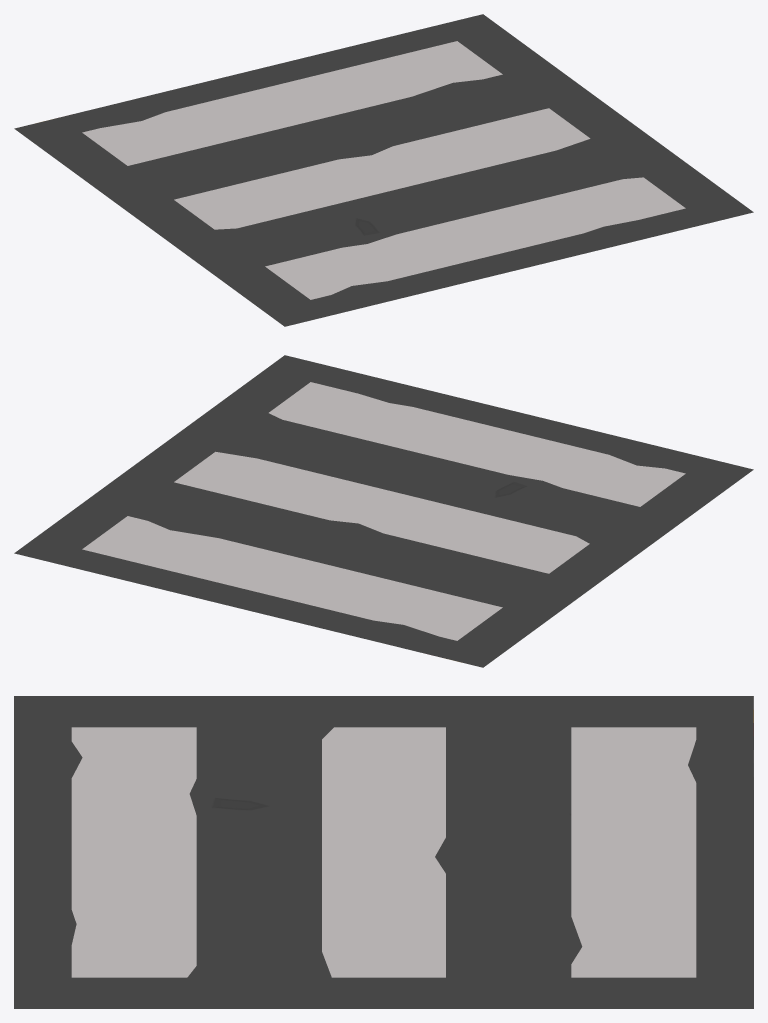
Rendered from SM_Env_Road_Small_Crossing_01.fbx.
The picture shows the model from 3 angles, top to bottom: view 1: azimuth 30°, elevation 25°; view 2: azimuth 150°, elevation 25°; view 3: azimuth 270°, elevation 25°; orthographic projection. The views are drawn at different scales.
Visible parts, largest first — view 1: SM_Env_Road_Small_Crossing_01; view 2: SM_Env_Road_Small_Crossing_01; view 3: SM_Env_Road_Small_Crossing_01.
Boxes of the visible parts, left/top/right/bottom form: SM_Env_Road_Small_Crossing_01: left=14, top=14, right=753, bottom=326; SM_Env_Road_Small_Crossing_01: left=14, top=355, right=753, bottom=667; SM_Env_Road_Small_Crossing_01: left=14, top=696, right=753, bottom=1008.
Bounding box in the file's own units: 500 × 4e-06 × 500.
